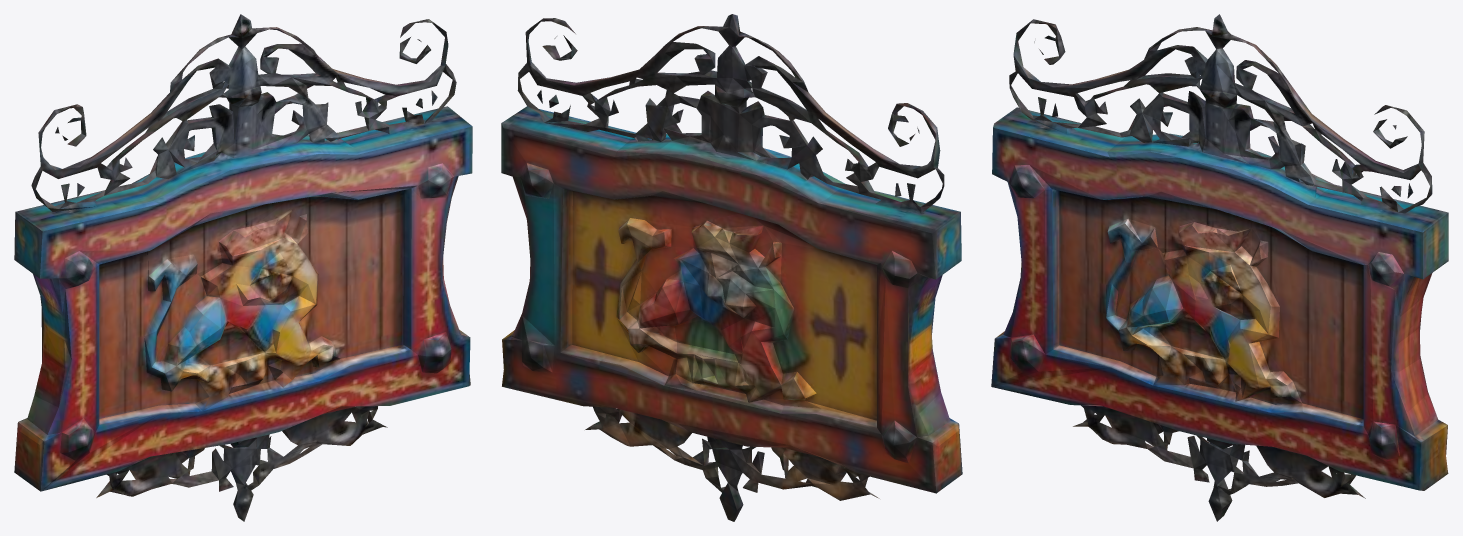
The model's file is meshy_sign_shop_lion_lod0.glb.
The picture shows the model from 3 angles, left to right: view 1: azimuth 30°, elevation 25°; view 2: azimuth 150°, elevation 25°; view 3: azimuth 330°, elevation 25°; orthographic projection.
Visible parts, largest first — view 1: meshy_sign_shop_lion; view 2: meshy_sign_shop_lion; view 3: meshy_sign_shop_lion.
Part boxes in pixels (x1=…): meshy_sign_shop_lion: x1=14, y1=14, x2=472, y2=521; meshy_sign_shop_lion: x1=501, y1=14, x2=962, y2=521; meshy_sign_shop_lion: x1=991, y1=14, x2=1448, y2=521.
Size of the model in its own units: 1.43 by 1.6 by 0.2173.
Materials: 1 (1 with a texture image).
